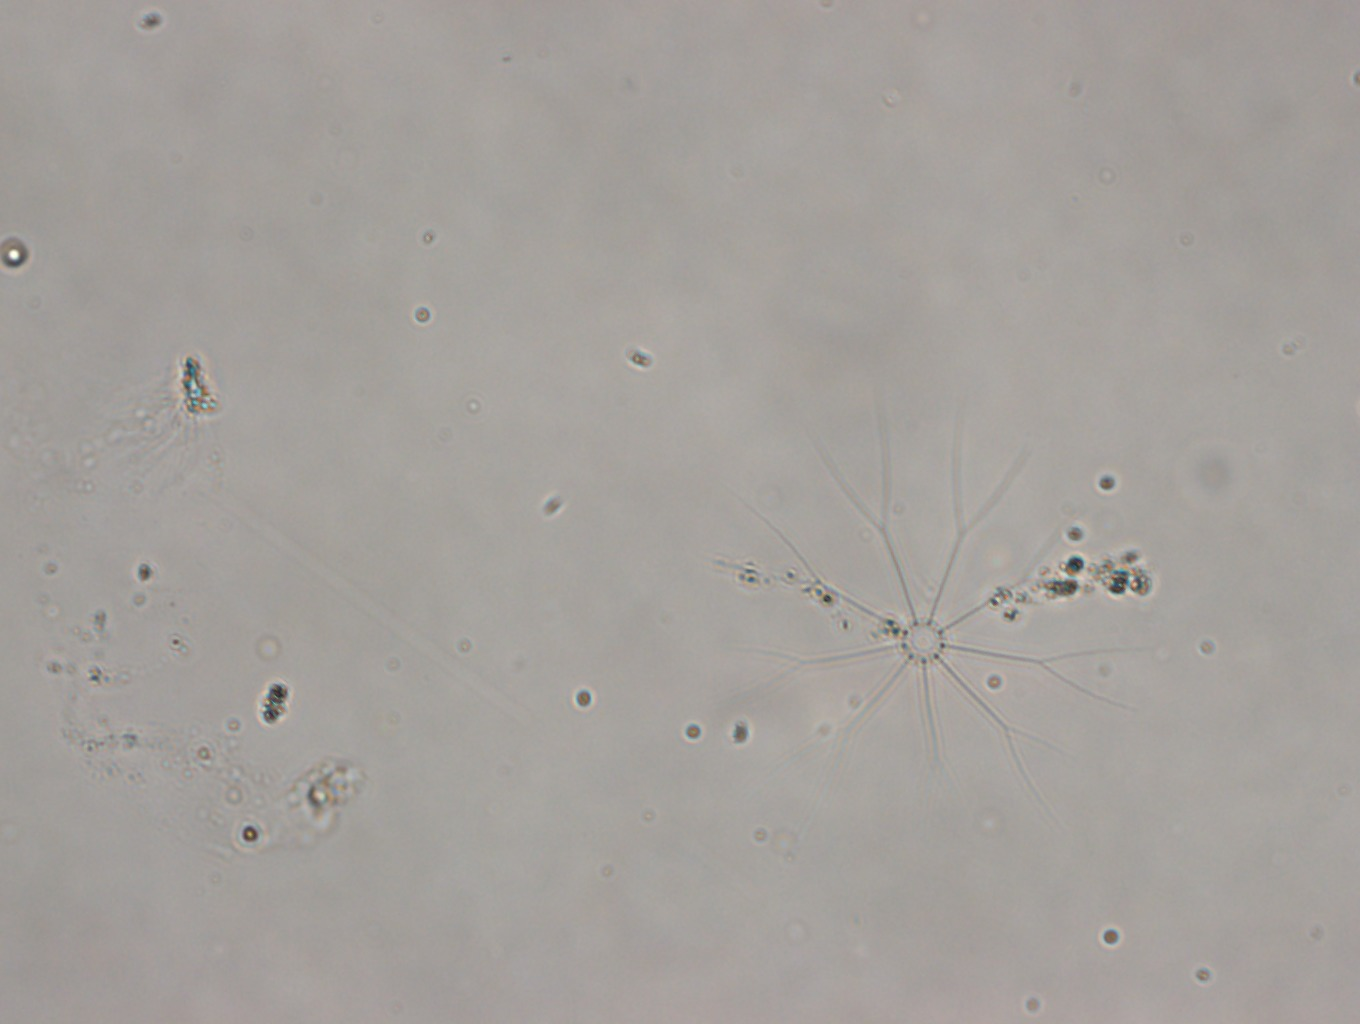bacteriastrum: (718, 419, 1144, 799)
